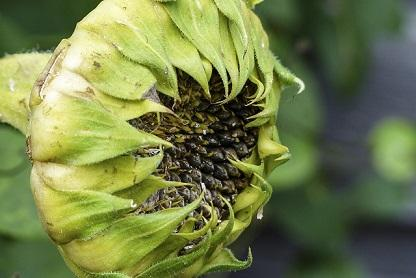girasolmarchito: (63, 11, 284, 266)
